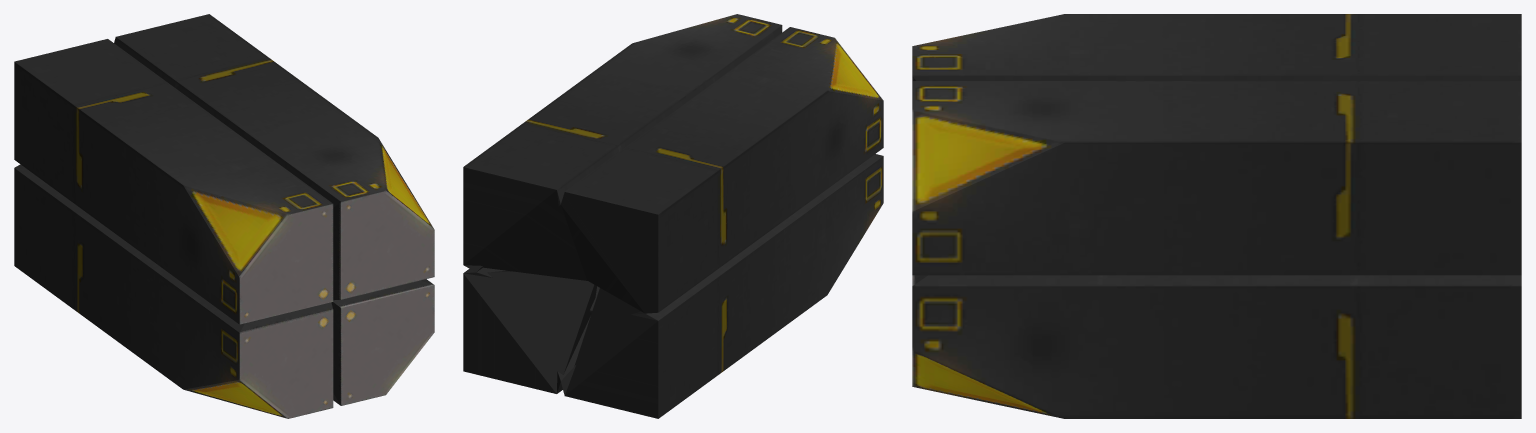
Rendered from trap_002_emp.glb.
3 views of the same model, side by side, from view 1: azimuth 30°, elevation 25°; view 2: azimuth 150°, elevation 25°; view 3: azimuth 270°, elevation 25° (orthographic). The views are drawn at different scales.
Parts seen in each view (by area): view 1: S_common_emp_010; view 2: S_common_emp_010; view 3: S_common_emp_010.
Boxes of the visible parts, box(x1,y1,x2,y2) form: S_common_emp_010: box(14, 14, 434, 418); S_common_emp_010: box(463, 14, 883, 418); S_common_emp_010: box(912, 14, 1521, 418).
Size of the model in its own units: 0.5 by 0.5 by 1.
Materials: 1 (1 with a texture image).
